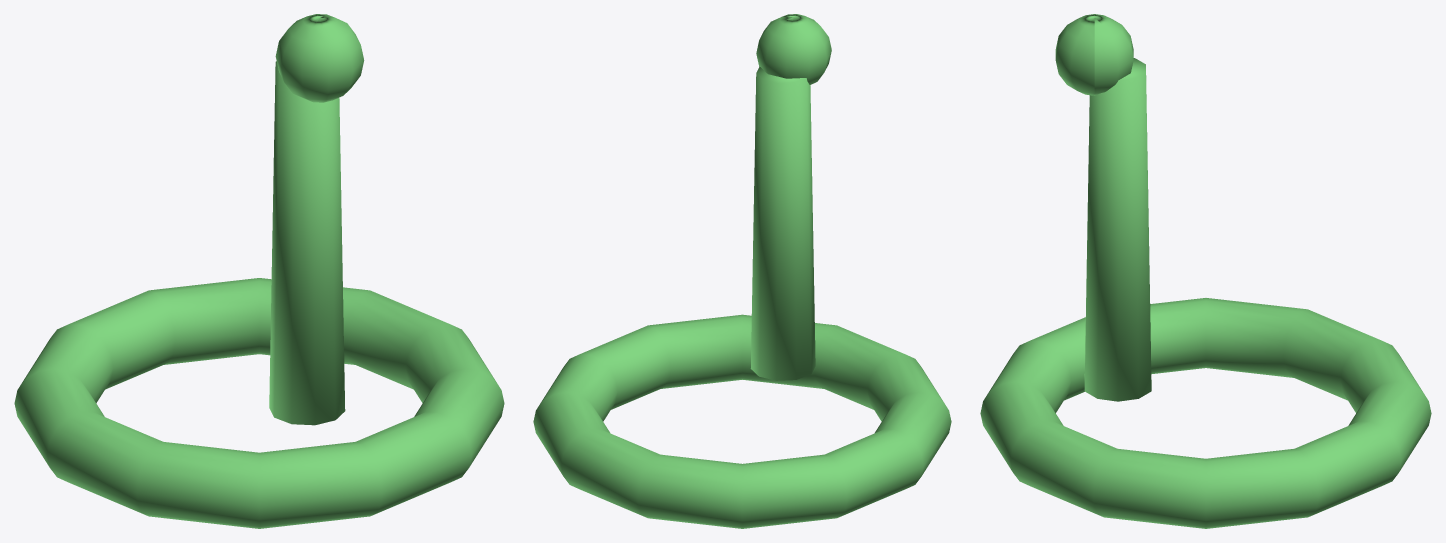
File: 8a034f44-d845-48da-9da1-c0fcd310d58c.glb
The picture shows the model from 3 angles, left to right: view 1: azimuth 30°, elevation 25°; view 2: azimuth 150°, elevation 25°; view 3: azimuth 270°, elevation 25°; orthographic projection. The views are drawn at different scales.
Visible parts, largest first — view 1: Generated3DMesh; view 2: Generated3DMesh; view 3: Generated3DMesh.
Boxes of the visible parts, bbox=[...] form: Generated3DMesh: bbox=[14, 14, 504, 528]; Generated3DMesh: bbox=[533, 14, 951, 528]; Generated3DMesh: bbox=[980, 14, 1431, 528].
Size of the model in its own units: 1.54 by 1.61 by 1.54.
